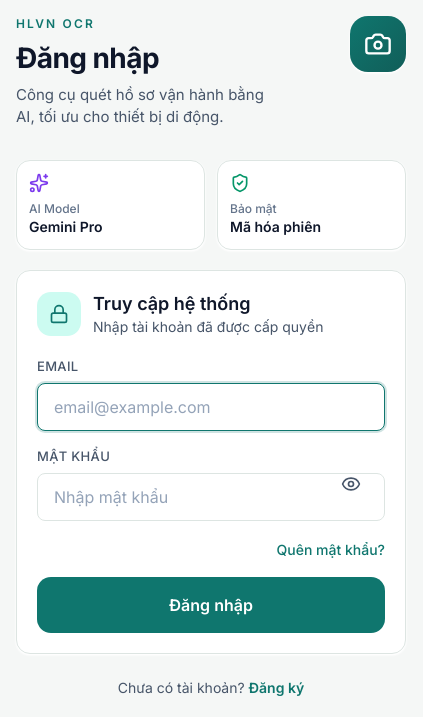
it: LoginPage › shows error for invalid email format
This screenshot has width=423, height=717.
Type "notanemail" into the field labelled "Email" at (211, 407), box [37,383,385,431]
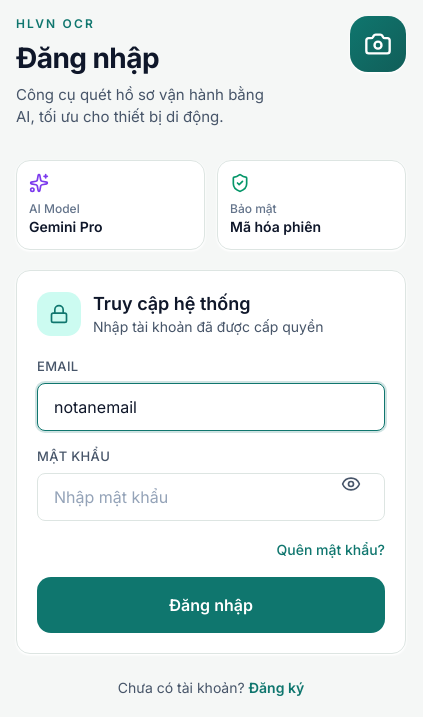
Leave the field labelled "Email", box [37,383,385,431]
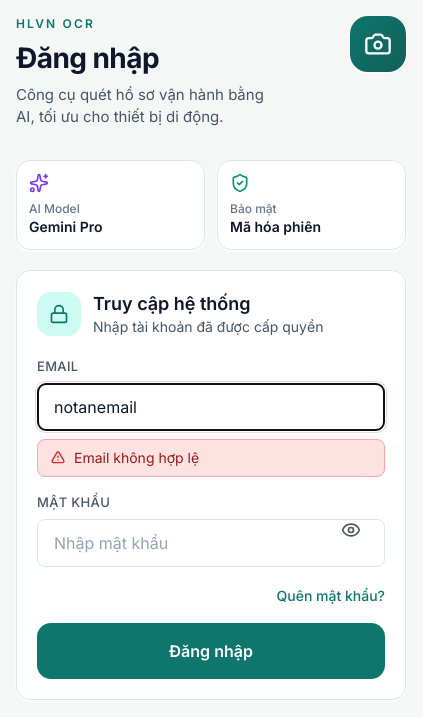
Expected: the text "Email không hợp lệ" is shown, [74,448,199,468]
